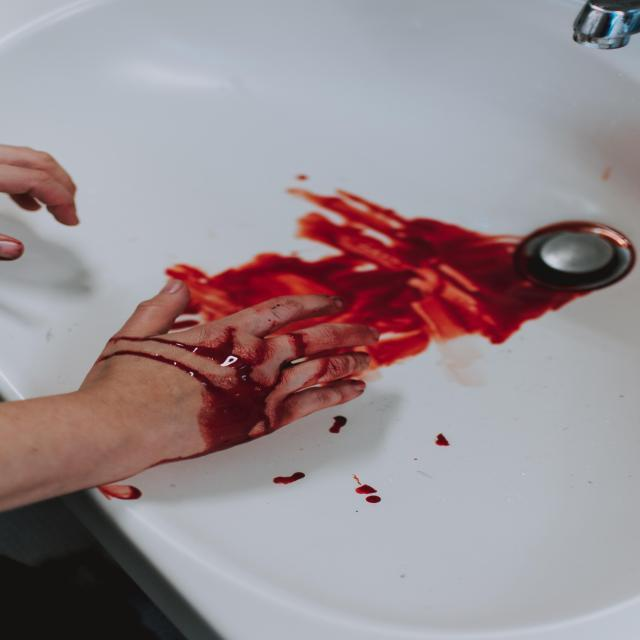flood: (322, 200, 531, 356), (102, 332, 268, 450)
